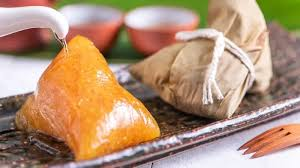zongzi: (15, 35, 159, 159), (130, 0, 271, 117)
